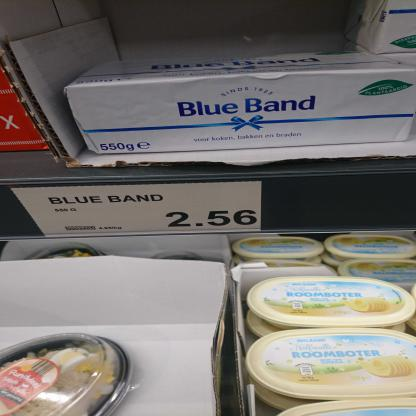prtg: (12, 181, 263, 238)
